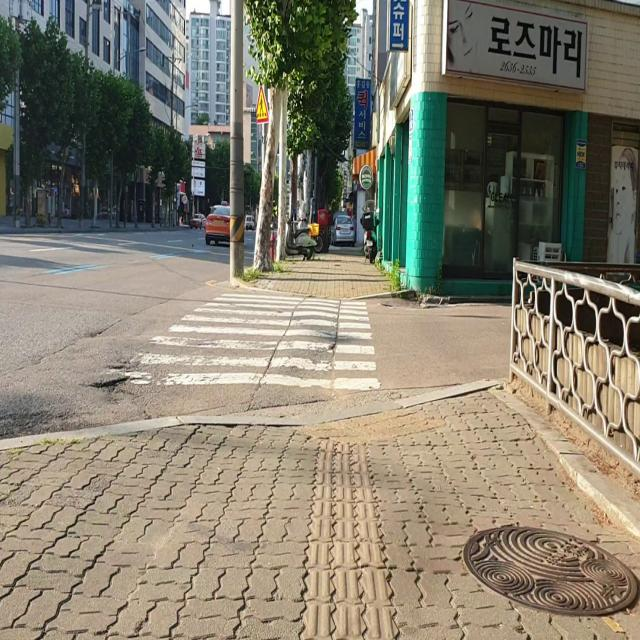횡단보도: (107, 292, 382, 392)
